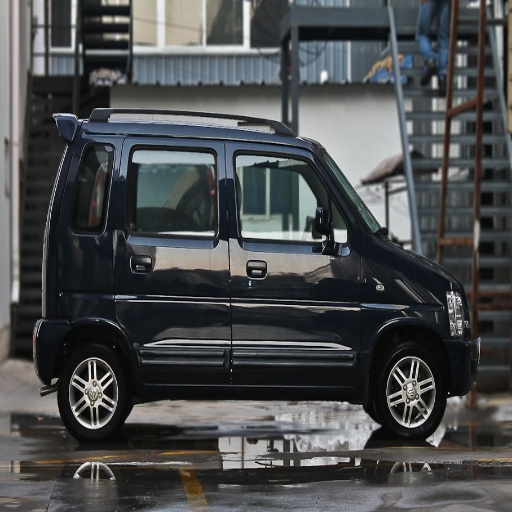front_right_door: (222, 148, 363, 381)
